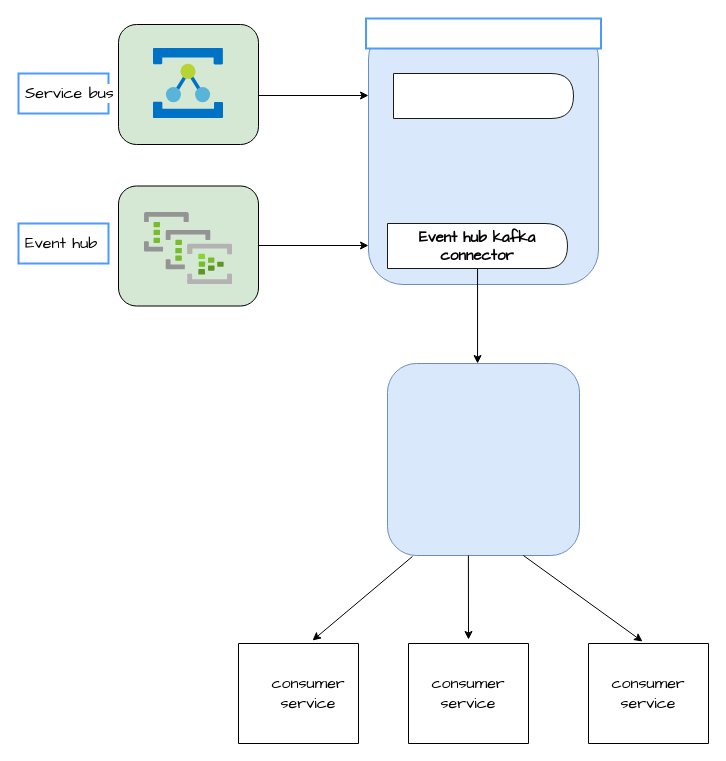
Some shapes in this 726 by 761 pixel diagram are drawn without their labels. The shapes that lost their labels are listed below. From the top down, each one's centre as x and y in pixels, then its label:
the point at 483,33: Confluent Kafka Connector's
the point at 483,95: Service bus kafka connector
the point at 483,459: Confluent Kafka
